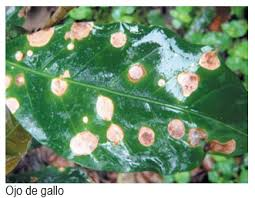ojo de gallo: (24, 17, 241, 159)
